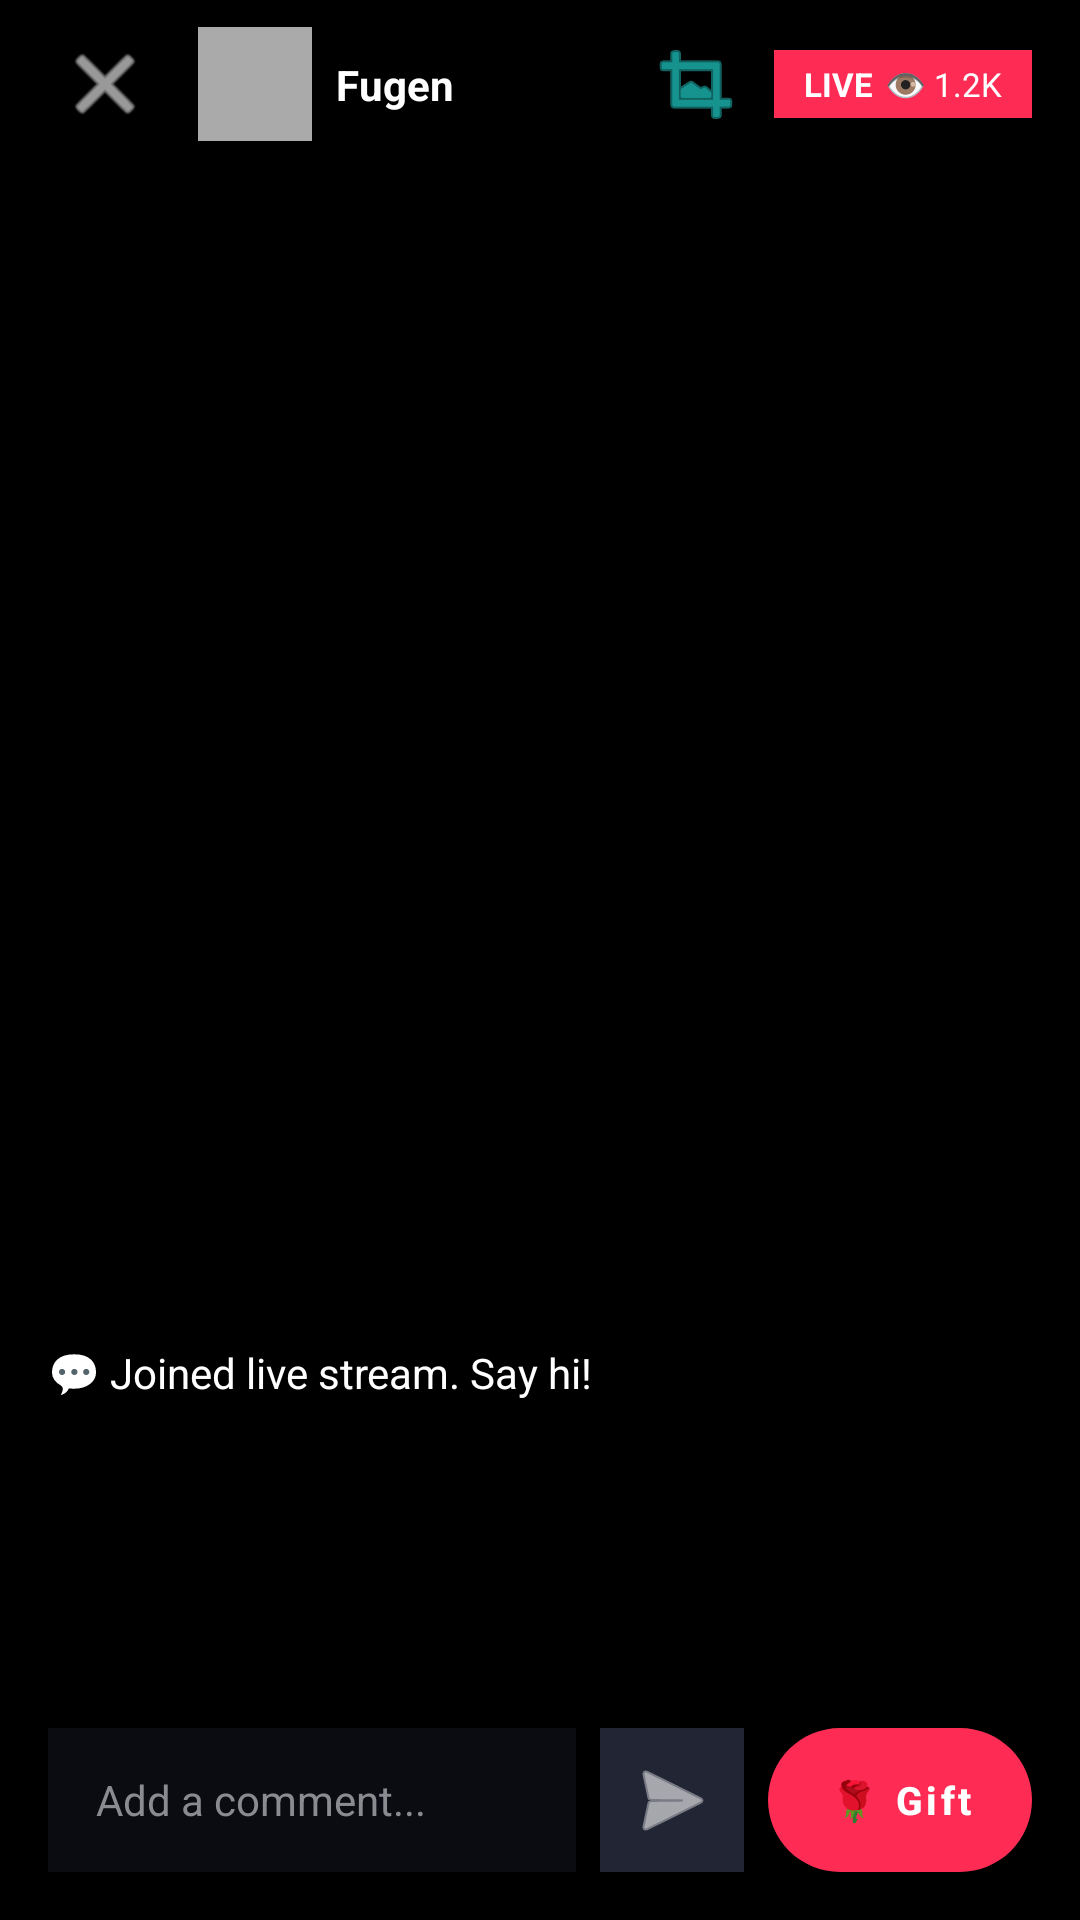

Where to tap for icons on this 1080*1920 app screen, as [x,y]:
Close Viewer: [105,84]
Send: [672,1800]
